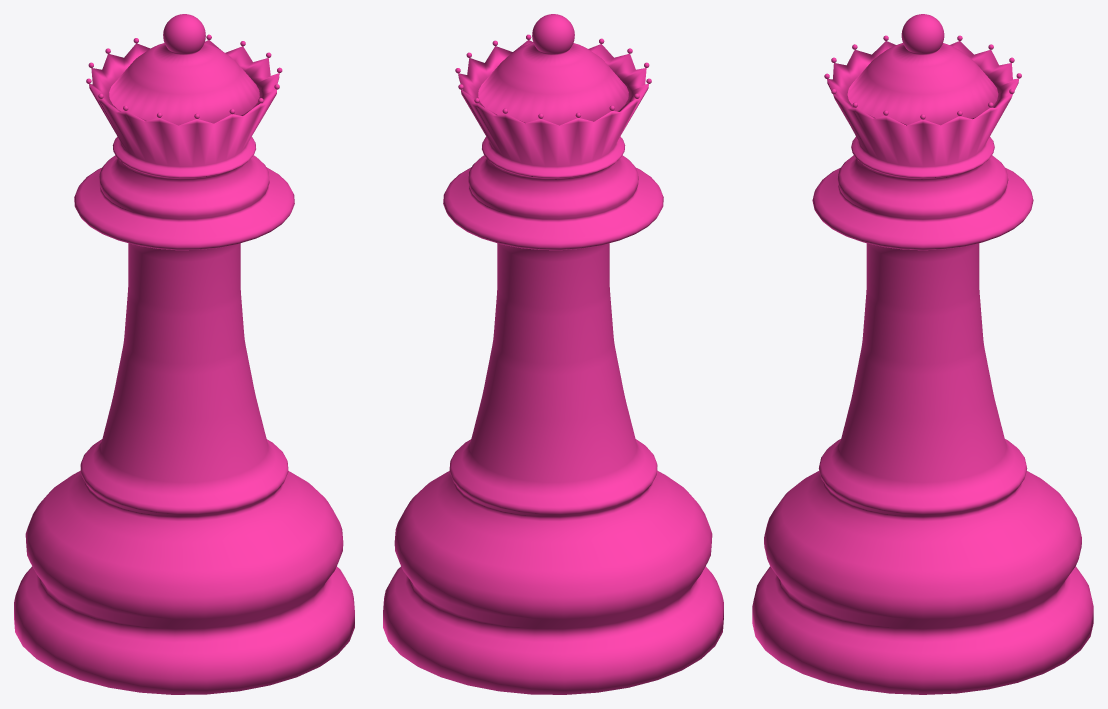
Rendered from queen.fbx.
The picture shows the model from 3 angles, left to right: view 1: azimuth 30°, elevation 25°; view 2: azimuth 150°, elevation 25°; view 3: azimuth 270°, elevation 25°; orthographic projection.
Parts seen in each view (by area): view 1: Light Queen; view 2: Light Queen; view 3: Light Queen.
Part boxes in pixels (left/top/right/bottom): Light Queen: left=14, top=14, right=354, bottom=694; Light Queen: left=383, top=14, right=723, bottom=694; Light Queen: left=752, top=14, right=1093, bottom=694.
Bounding box in the file's own units: 96.87 × 190 × 96.87.
